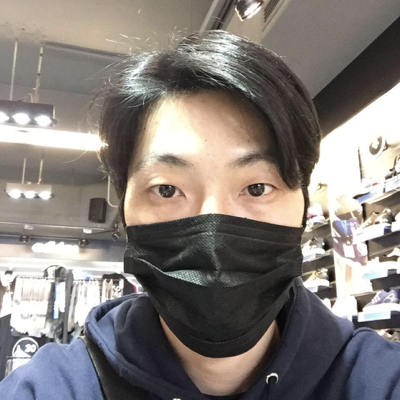with_mask: (121, 145, 305, 356)
